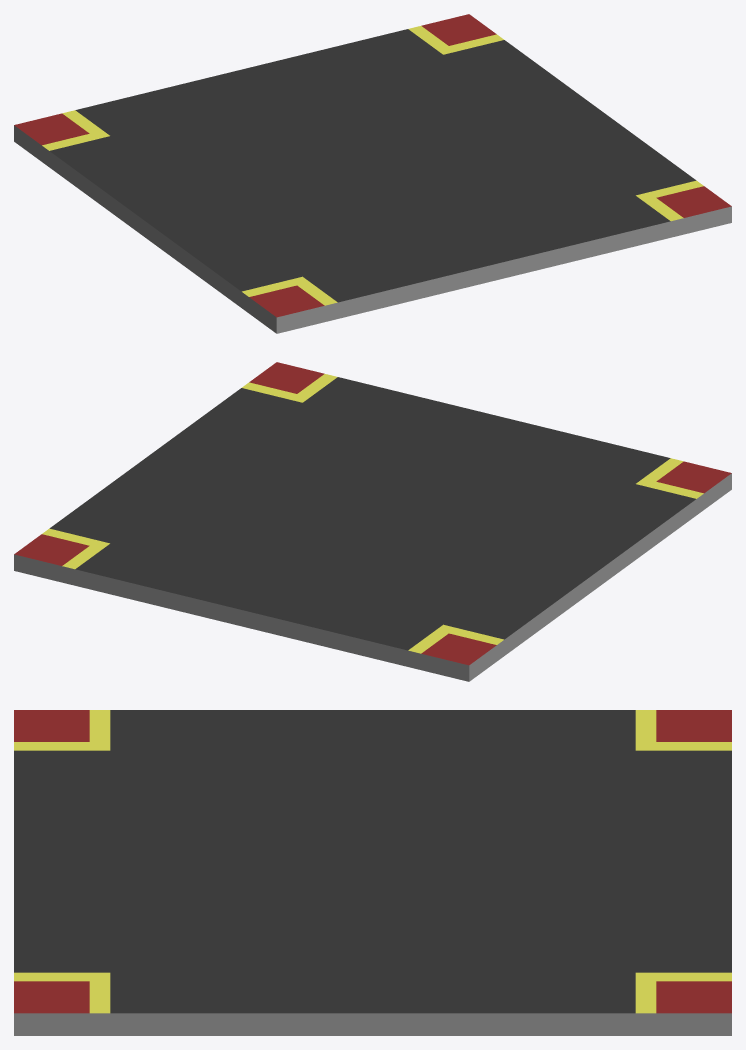
The model's file is Road4.fbx.
The picture shows the model from 3 angles, top to bottom: view 1: azimuth 30°, elevation 25°; view 2: azimuth 150°, elevation 25°; view 3: azimuth 270°, elevation 25°; orthographic projection. The views are drawn at different scales.
Visible parts, largest first — view 1: pCube38; view 2: pCube38; view 3: pCube38.
Boxes of the visible parts, x1,y1,x2,y2 form: pCube38: (14, 14, 731, 333); pCube38: (14, 362, 731, 681); pCube38: (14, 710, 731, 1035).
Bounding box in the file's own units: 100 × 3.46 × 100.
